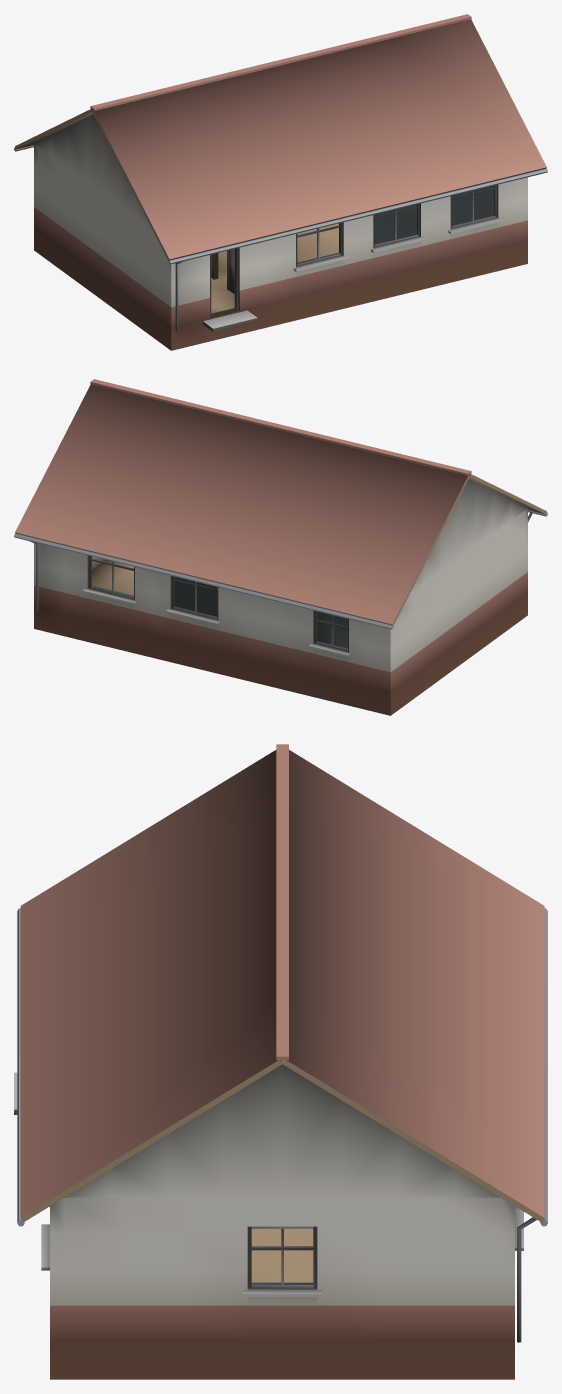
The model's file is school.glb.
3 renders of one model, top to bottom at view 1: azimuth 30°, elevation 25°; view 2: azimuth 150°, elevation 25°; view 3: azimuth 270°, elevation 25°, orthographic. The views are drawn at different scales.
Parts seen in each view (by area): view 1: school; view 2: school; view 3: school.
Part boxes in pixels (left/top/right/bottom): school: left=14, top=14, right=547, bottom=350; school: left=14, top=379, right=547, bottom=715; school: left=14, top=744, right=547, bottom=1379.
Size of the model in its own units: 12.7 by 6.29 by 9.19.
